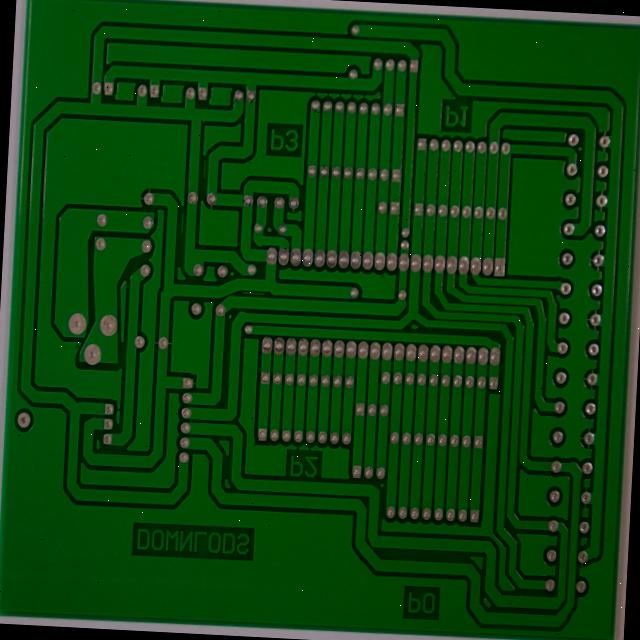spurious_copper: (136, 233, 151, 264), (207, 323, 236, 335), (164, 174, 173, 201)
